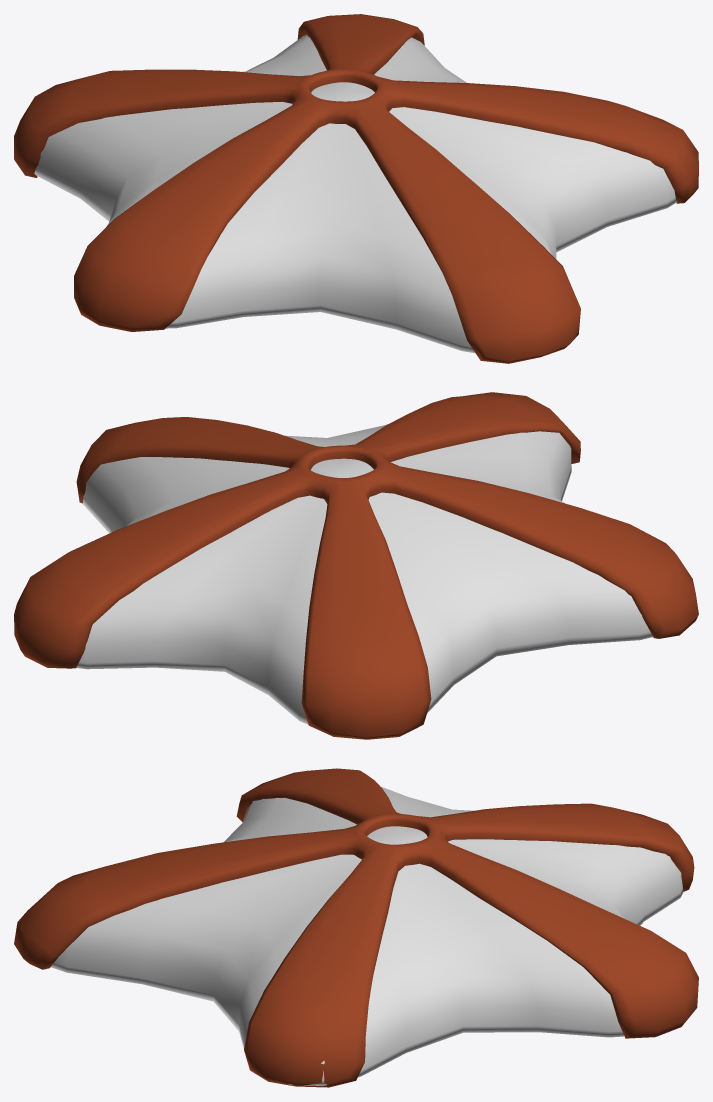
Rendered from SM_StarfishHigh3.fbx.
3 renders of one model, top to bottom at view 1: azimuth 30°, elevation 25°; view 2: azimuth 150°, elevation 25°; view 3: azimuth 270°, elevation 25°, orthographic. The views are drawn at different scales.
Parts seen in each view (by area): view 1: SM_starfish_high; view 2: SM_starfish_high; view 3: SM_starfish_high.
Boxes of the visible parts, x1,y1,x2,y2 form: SM_starfish_high: [14, 14, 698, 363]; SM_starfish_high: [14, 392, 698, 739]; SM_starfish_high: [14, 768, 698, 1087].
Size of the model in its own units: 41 by 8.51 by 42.43.
